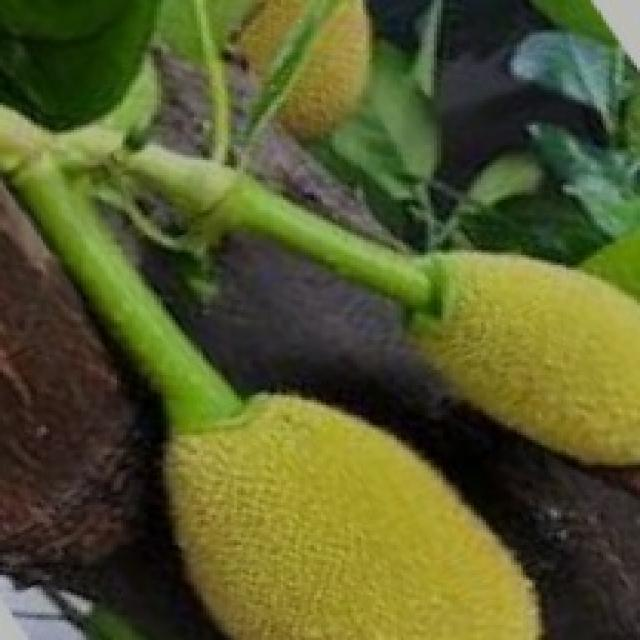Fruit: (381, 219, 640, 512)
